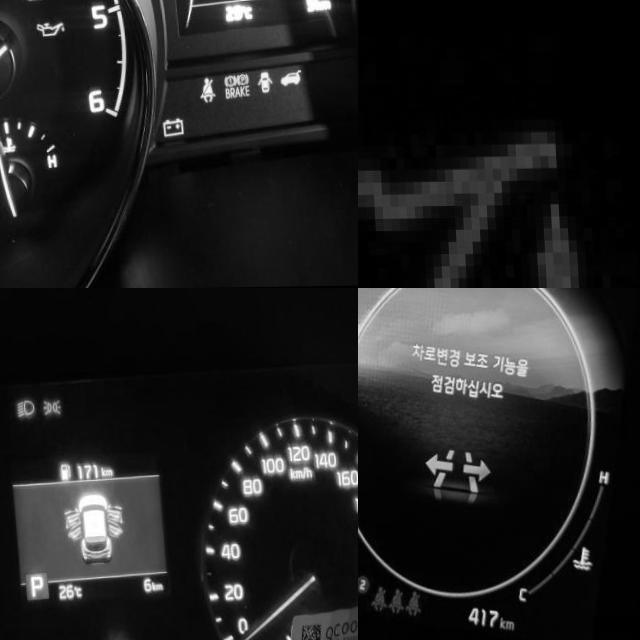Doors: (251, 72, 267, 94)
Low beam: (13, 400, 33, 419)
SideLamp: (39, 399, 59, 417)
